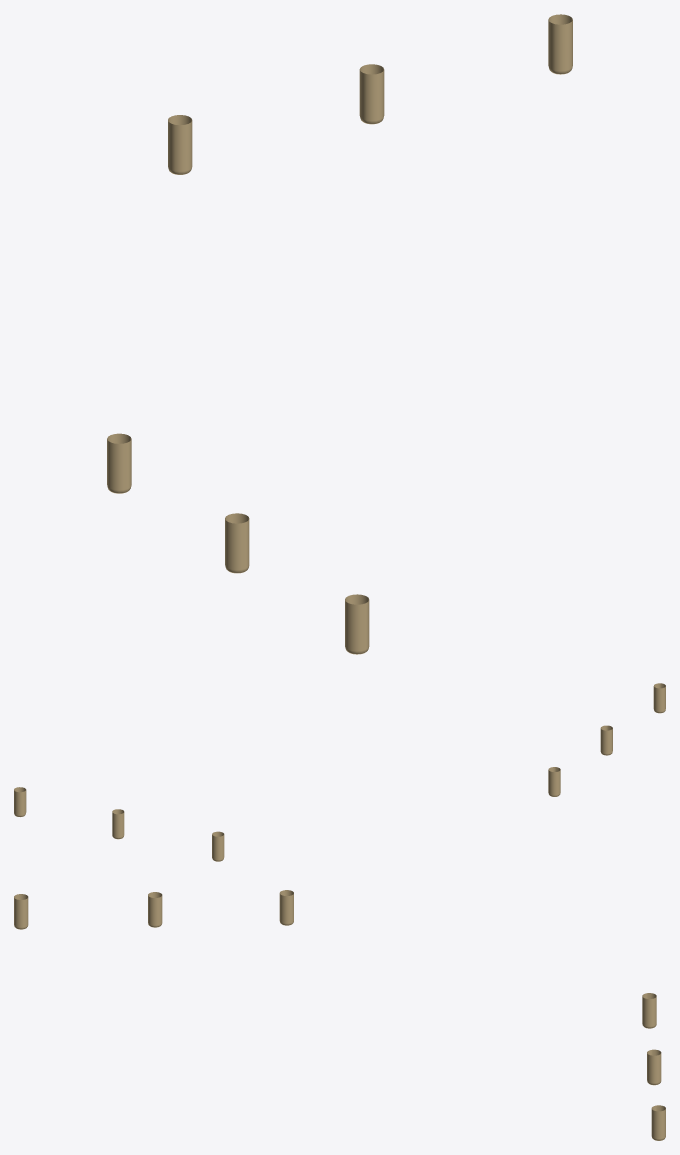
The model's file is PenthouseLightBulbs_mesh.fbx.
3 renders of one model, top to bottom at view 1: azimuth 30°, elevation 25°; view 2: azimuth 150°, elevation 25°; view 3: azimuth 270°, elevation 25°, orthographic. The views are drawn at different scales.
Visible parts, largest first — view 1: PenthouseLightBulbs_mesh; view 2: PenthouseLightBulbs_mesh; view 3: PenthouseLightBulbs_mesh.
Boxes of the visible parts, box(x1,y1,x2,y2) form: PenthouseLightBulbs_mesh: box(107, 14, 572, 654); PenthouseLightBulbs_mesh: box(14, 683, 665, 861); PenthouseLightBulbs_mesh: box(14, 890, 665, 1140).
Bounding box in the file's own units: 73.61 × 5.07 × 90.38.
